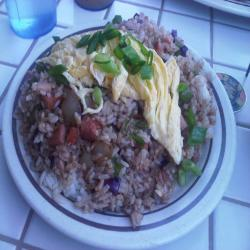omelette: (80, 41, 193, 164)
rice: (34, 141, 180, 218)
